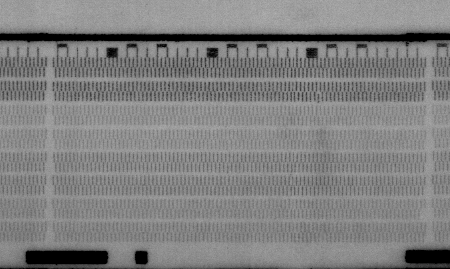Broken hole: (417, 207, 430, 220)
Oblique printing: (313, 92, 325, 105)
